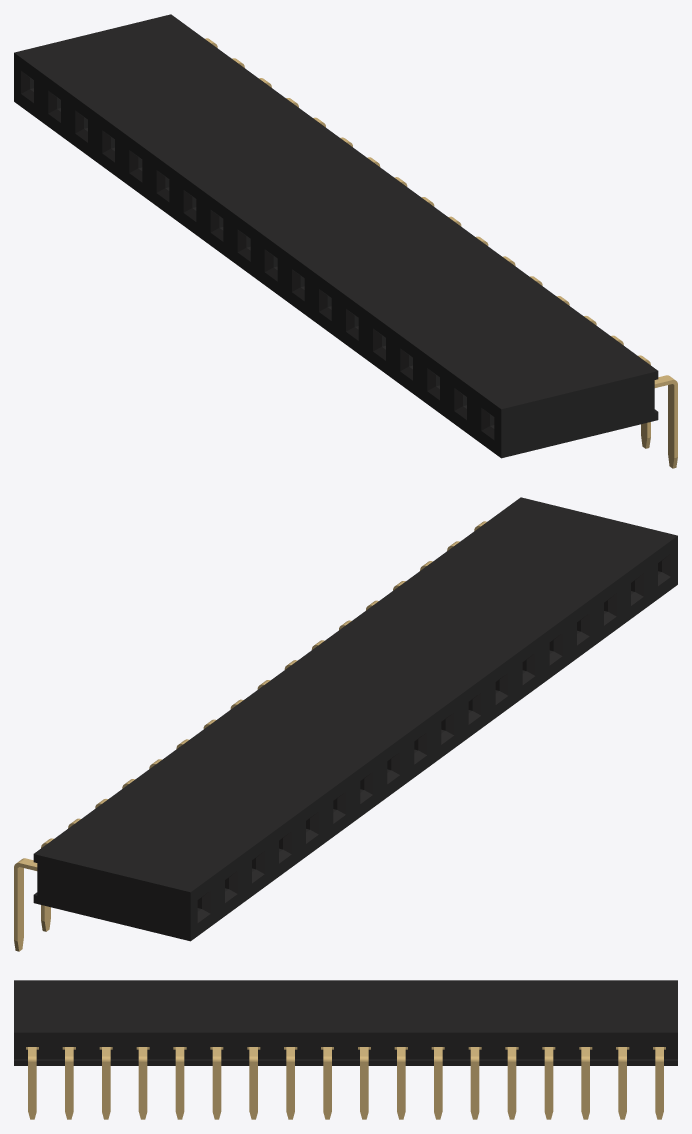
The model's file is kc-pinsocket_1x18_p2.54mm_horizontal.glb.
3 views of the same model, one above another, from view 1: azimuth 30°, elevation 25°; view 2: azimuth 150°, elevation 25°; view 3: azimuth 270°, elevation 25° (orthographic). The views are drawn at different scales.
Parts seen in each view (by area): view 1: 0_0_0_0, 0.75_0.5_0.25_0.9; view 2: 0_0_0_0, 0.75_0.5_0.25_0.9; view 3: 0_0_0_0, 0.75_0.5_0.25_0.9.
Part boxes in pixels (x1,y1,x2,y2): 0_0_0_0: [14, 14, 658, 458]; 0.75_0.5_0.25_0.9: [205, 38, 677, 468]; 0_0_0_0: [33, 497, 677, 941]; 0.75_0.5_0.25_0.9: [14, 521, 486, 951]; 0_0_0_0: [14, 980, 677, 1065]; 0.75_0.5_0.25_0.9: [26, 1047, 665, 1119].
Size of the model in its own units: 1.01 by 0.584 by 4.57.
